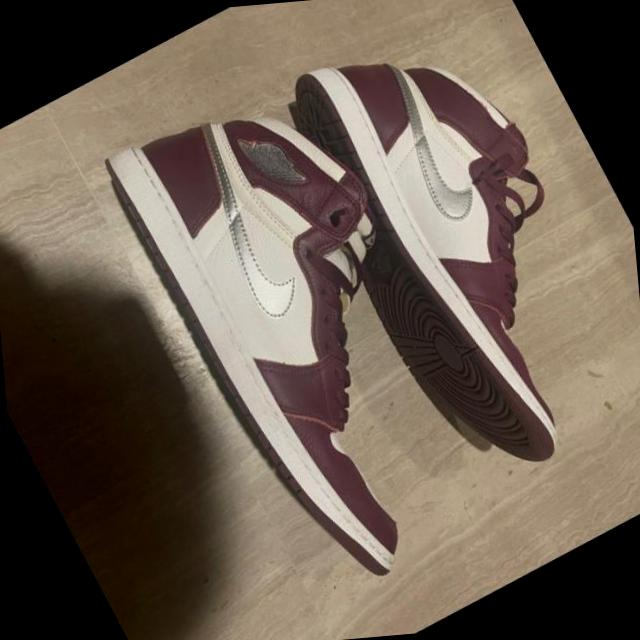nike_original_jordan: (82, 32, 536, 622), (250, 0, 640, 518)
